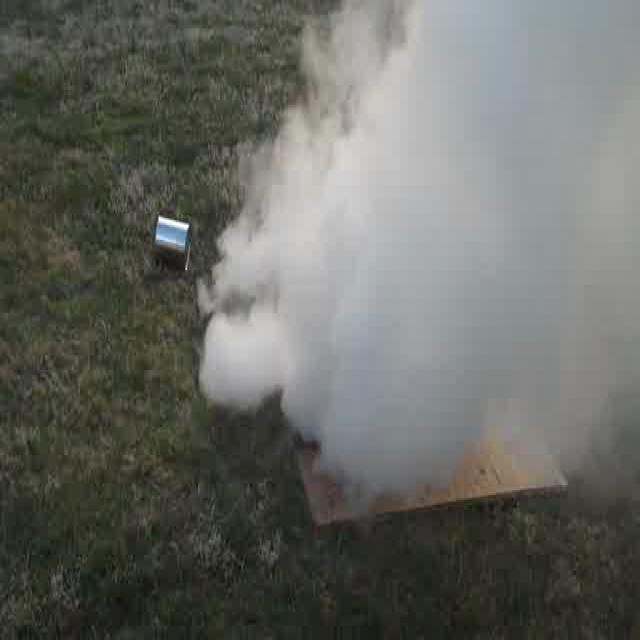Smoke: (208, 13, 638, 442)
